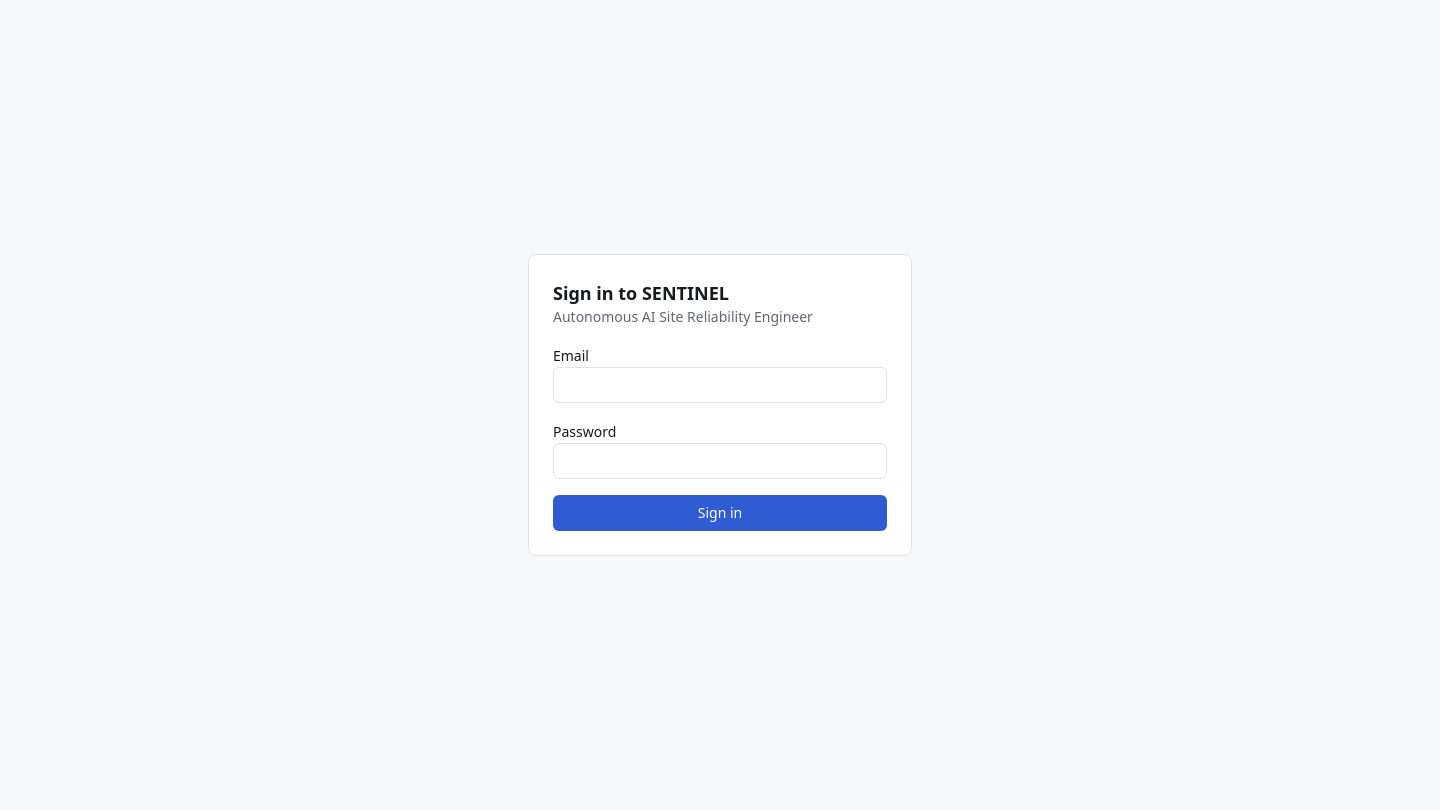
Test: signing in › sends a signed-out visitor to the login page, then back where they were going
Expected: the heading "Sign in to SENTINEL" is shown, x1=553 y1=281 x2=729 y2=305
Step 1. Type "viewer@example.com" into the field labelled "Email" → (720, 385), box x1=553 y1=367 x2=887 y2=403
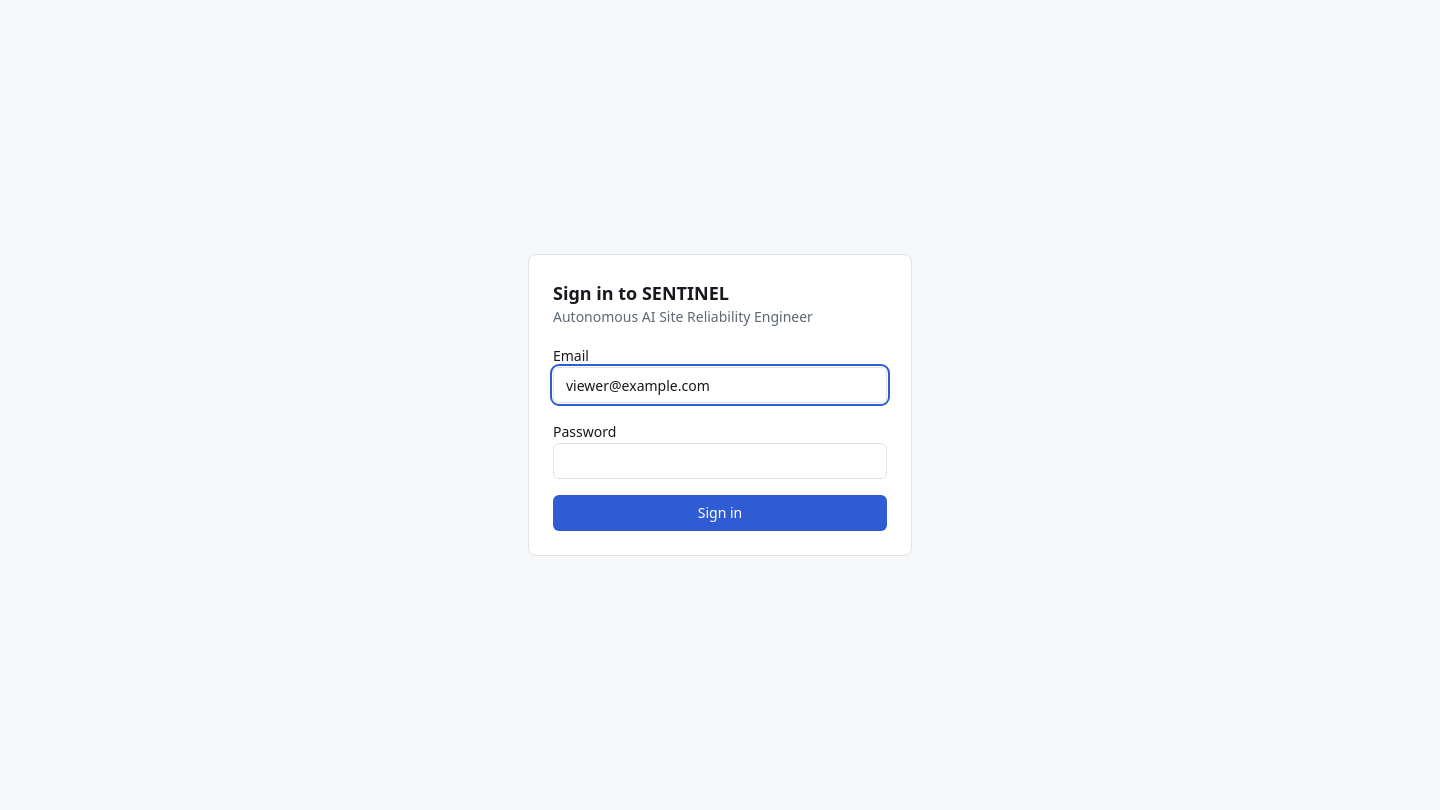
Step 2. Type "correct horse" into the password field labelled "Password" → (720, 461), box x1=553 y1=443 x2=887 y2=479
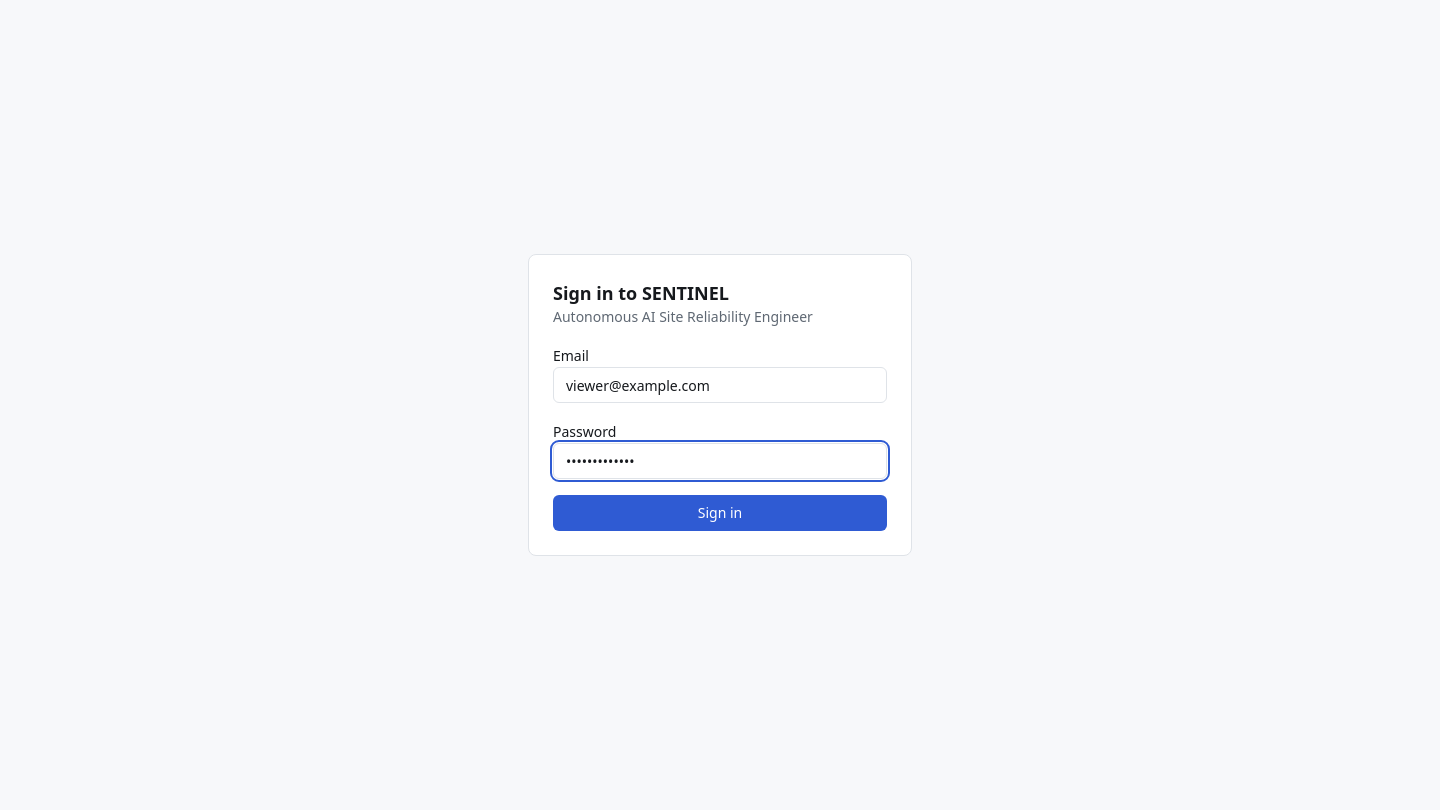
Step 3. Click the button "Sign in" → click(720, 513), box x1=553 y1=495 x2=887 y2=531
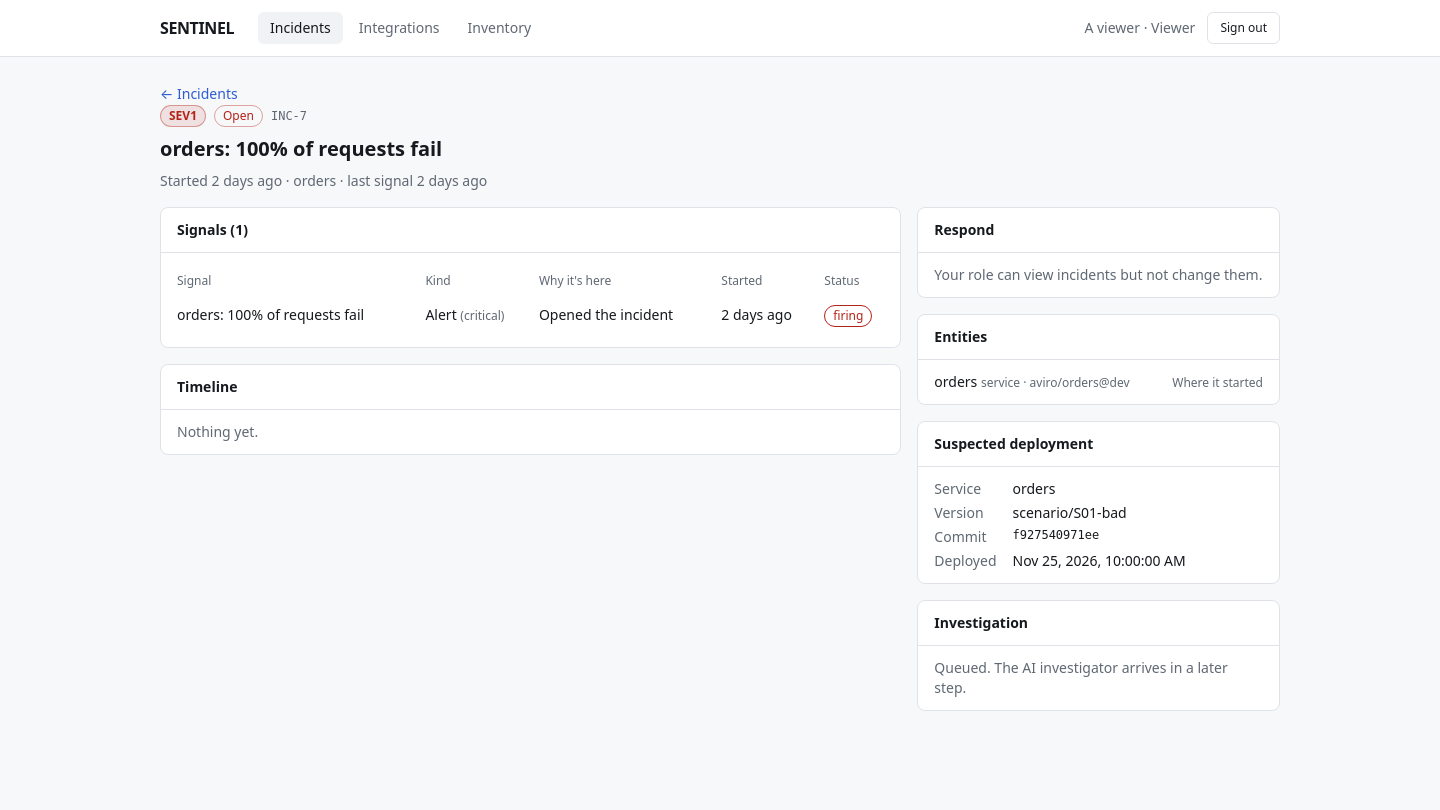
Expected: the heading "orders: 100% of requests fail" is shown, x1=160 y1=135 x2=442 y2=162
